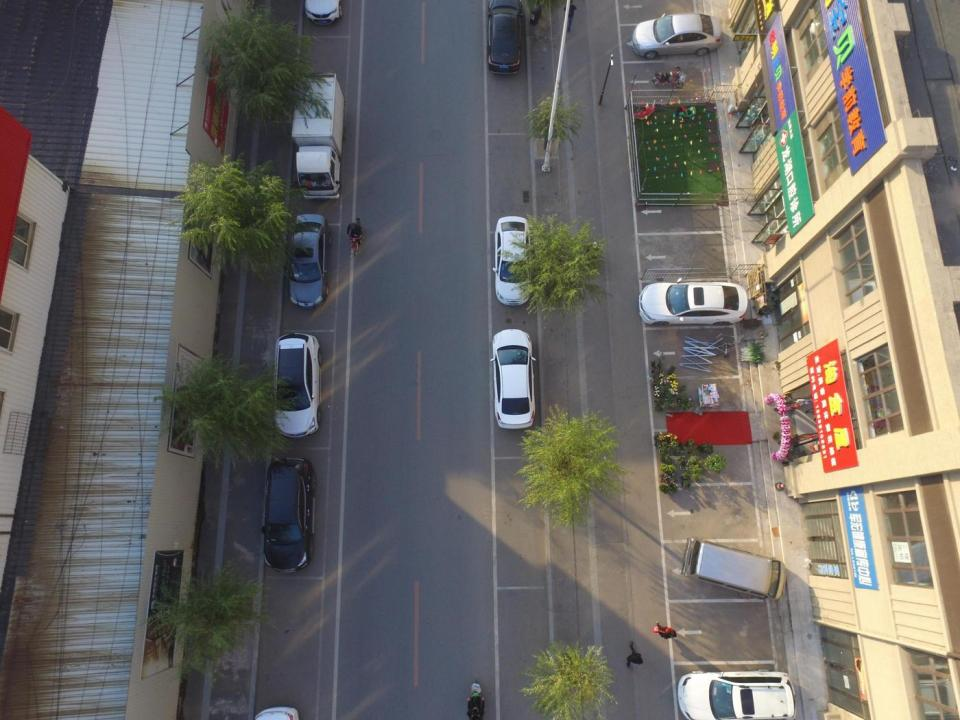car: (261, 456, 316, 574), (676, 667, 796, 720), (272, 332, 322, 439), (638, 277, 747, 326), (490, 327, 536, 430), (631, 12, 722, 61), (287, 213, 332, 310), (492, 216, 536, 306), (486, 1, 524, 74)
truck: (290, 72, 346, 202)
van: (680, 536, 787, 602)
